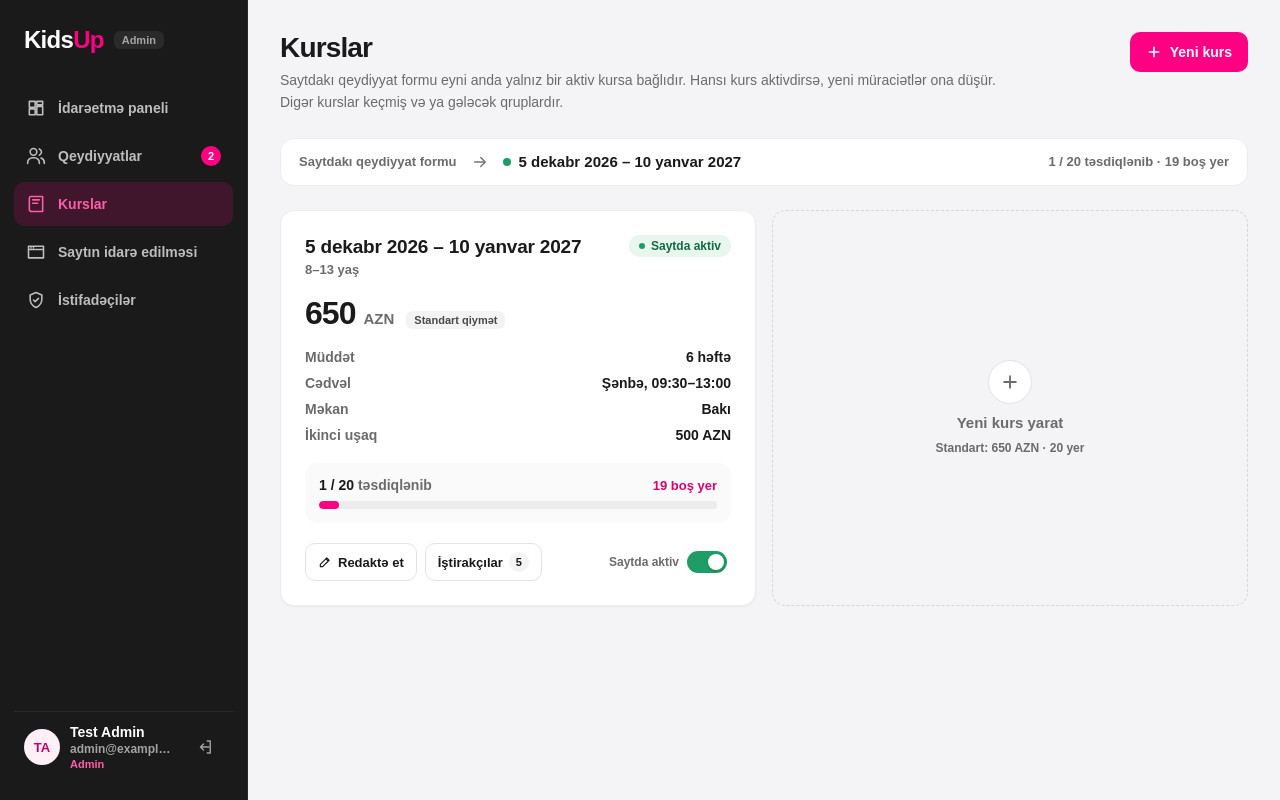
Scenario: tying the form to a course › shows what the server did when a switch fails
expect the navigation bar named "Admin menyu" is shown: met, box [14, 86, 233, 322]
expect the heading "Kurslar" is shown: met, box [280, 32, 372, 63]
Click the switch: (666, 562) [601, 543, 731, 581]
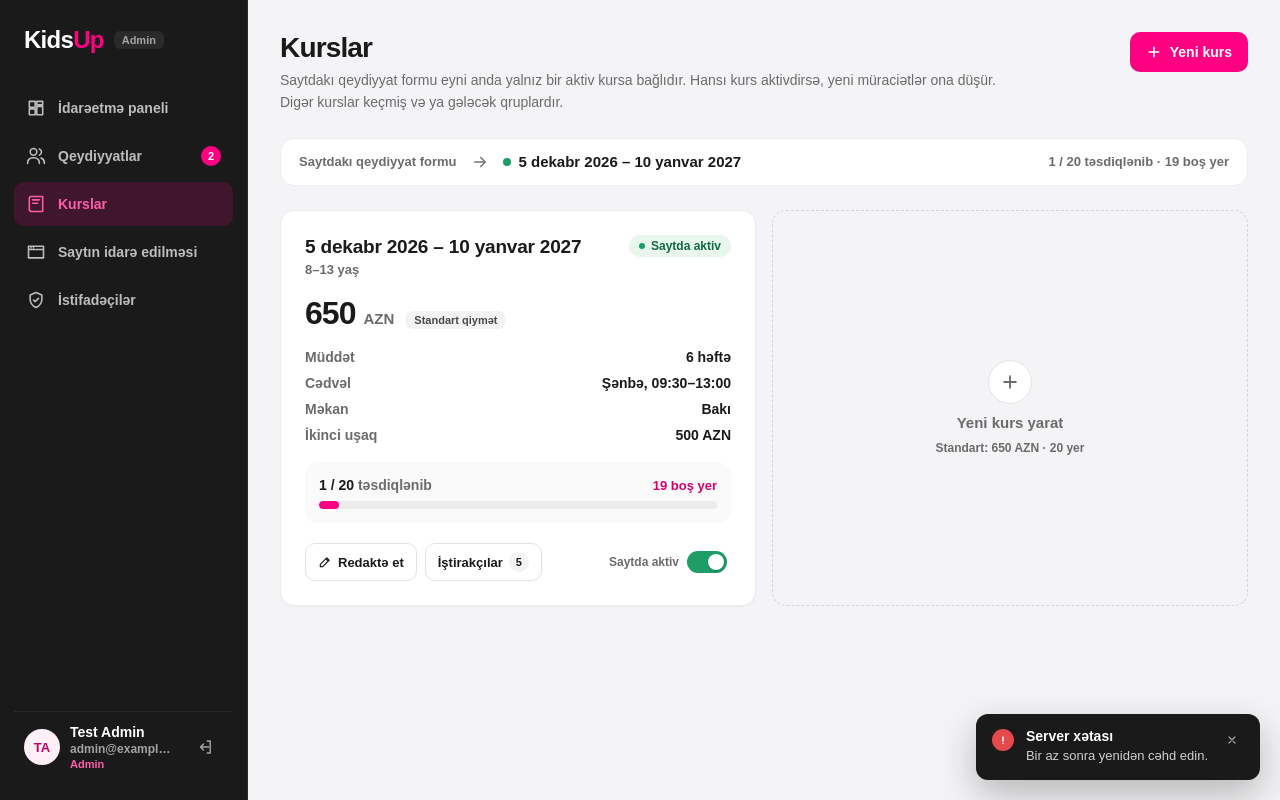
expect the text "Server xətası" is shown: met, box [1026, 728, 1113, 744]
